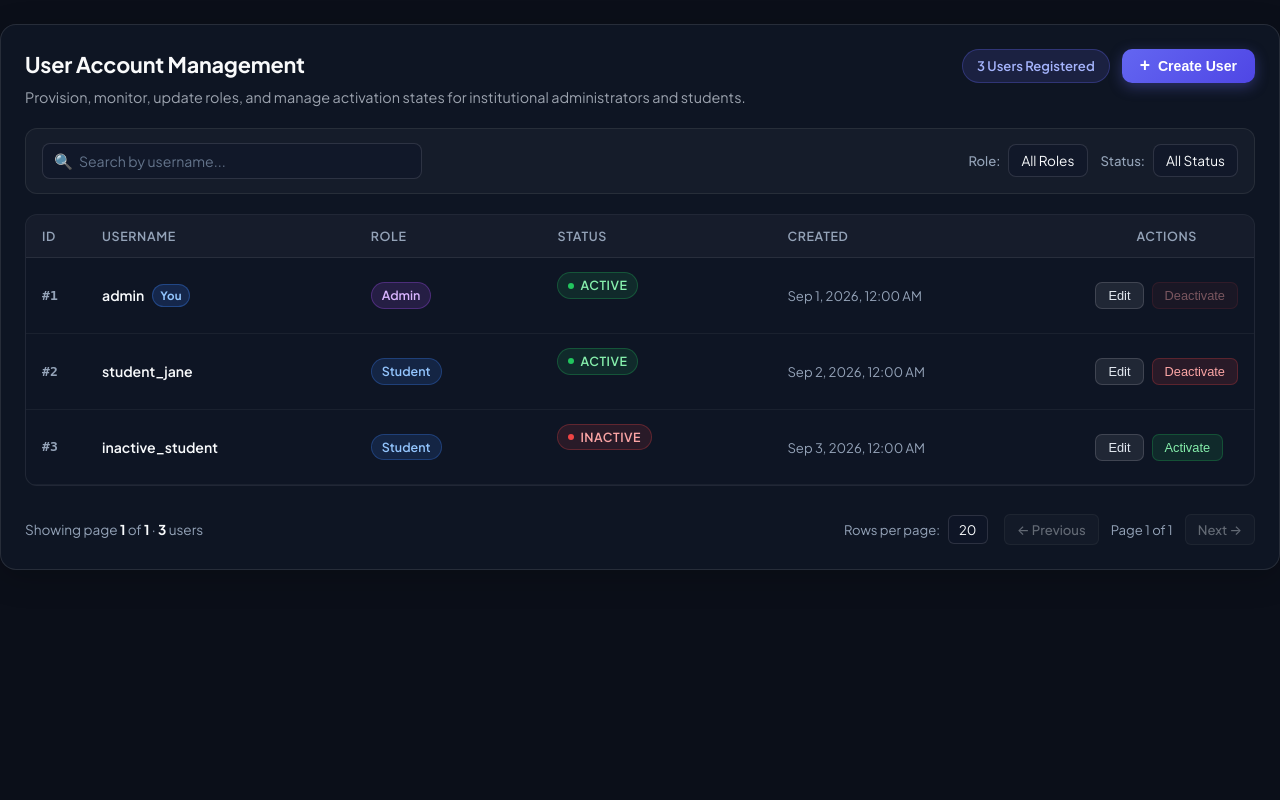
Test case: UserManagement Component › displays error banner inside Create User modal when username already exists (409 conflict)
Expected: the text "student_jane" is shown, x1=102 y1=361 x2=193 y2=382
Click the button with aria-label "create new user account" at (1188, 66), box x1=1122 y1=49 x2=1255 y2=83
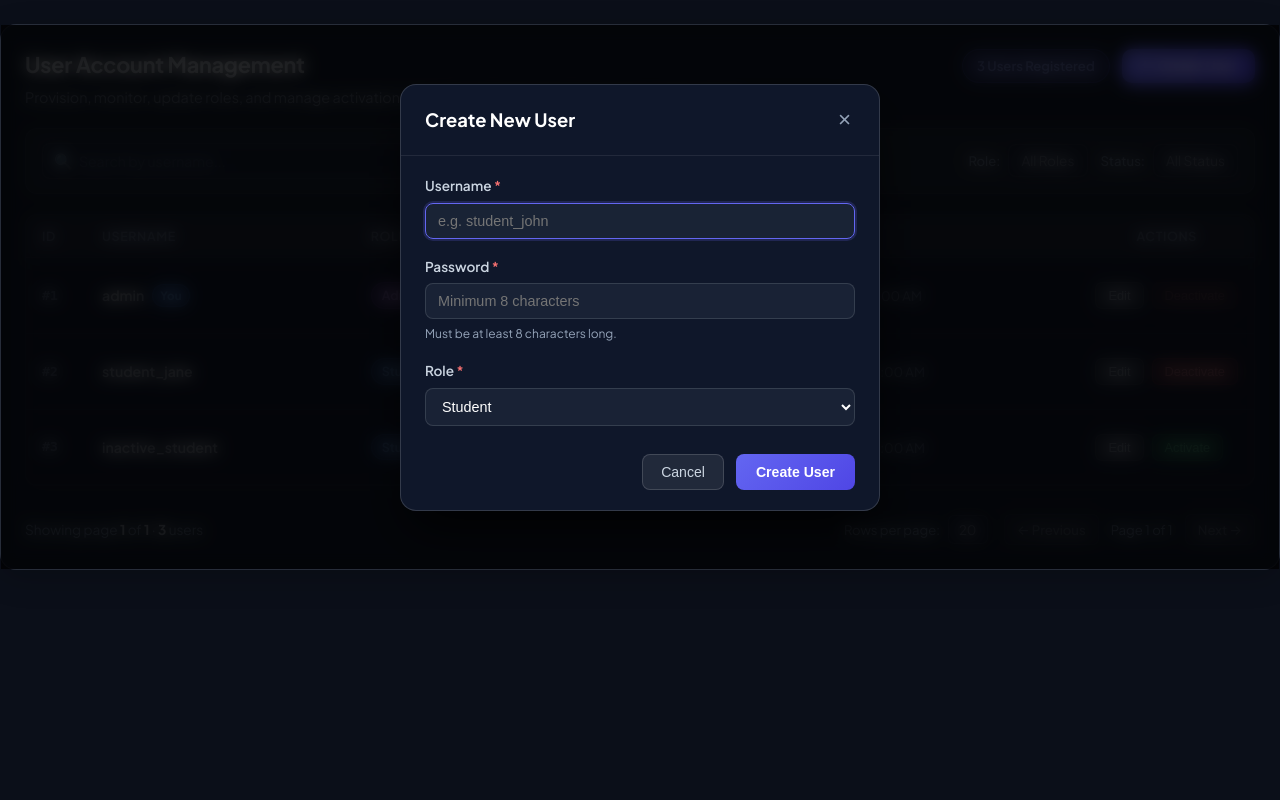
Type "admin" into the field with placeholder "e.g. student_john" at (640, 221), box x1=425 y1=203 x2=855 y2=239
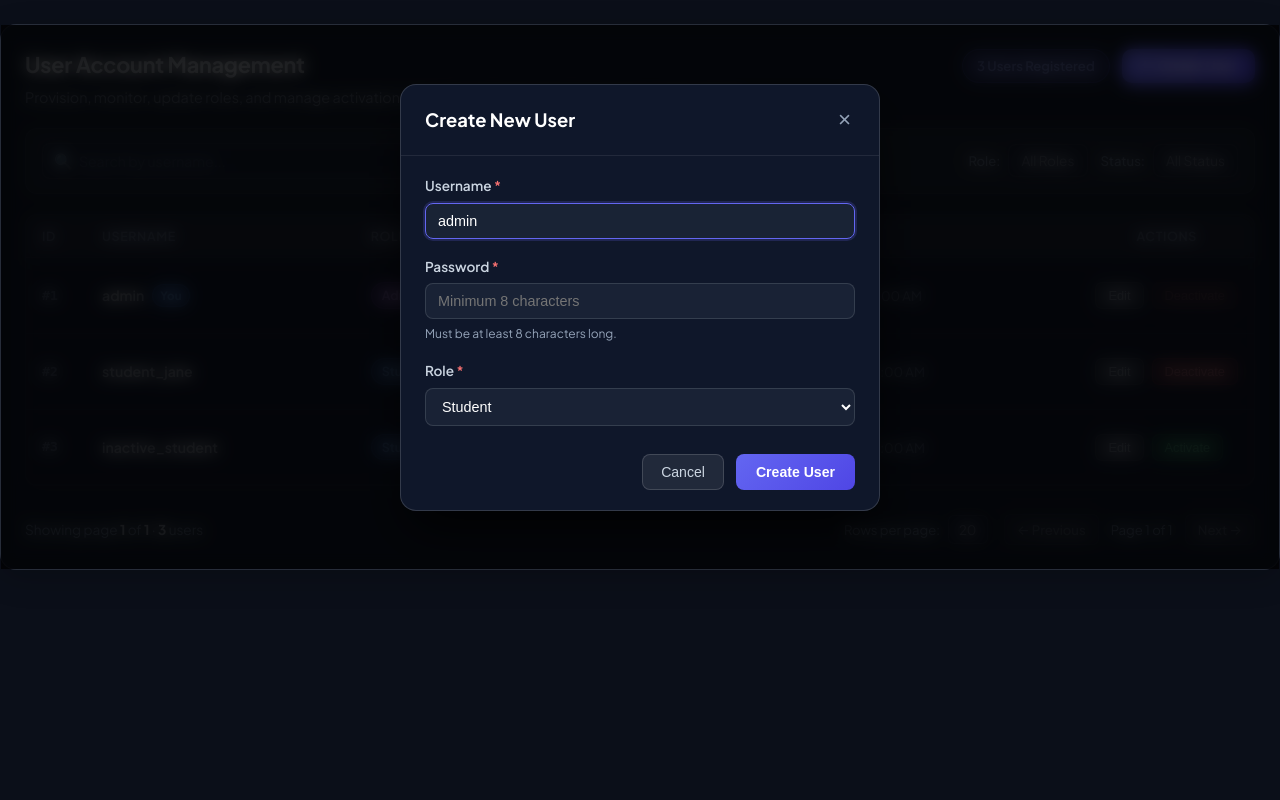
Type "ValidSecret123!" into the password field with placeholder "Minimum 8 characters" at (640, 301), box x1=425 y1=283 x2=855 y2=319
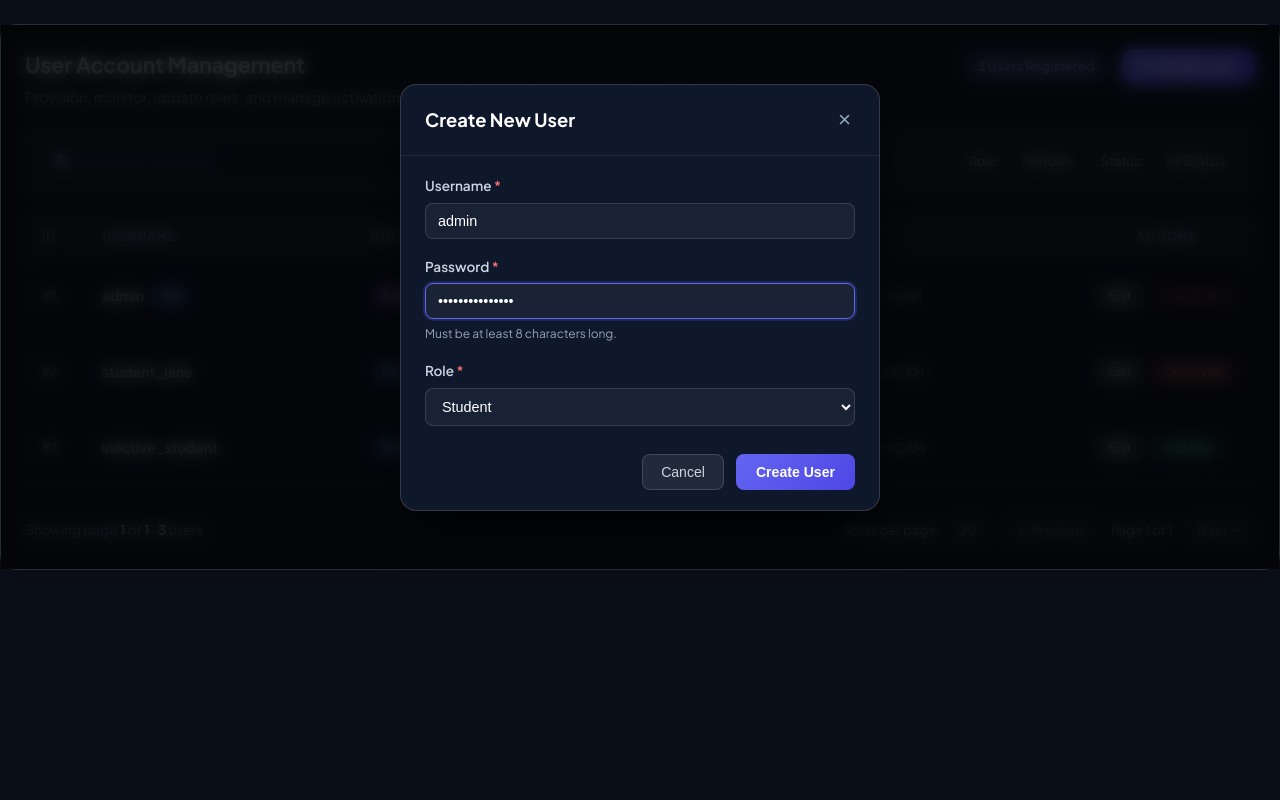
Click the button "Create User" at (796, 472), box x1=736 y1=454 x2=855 y2=490
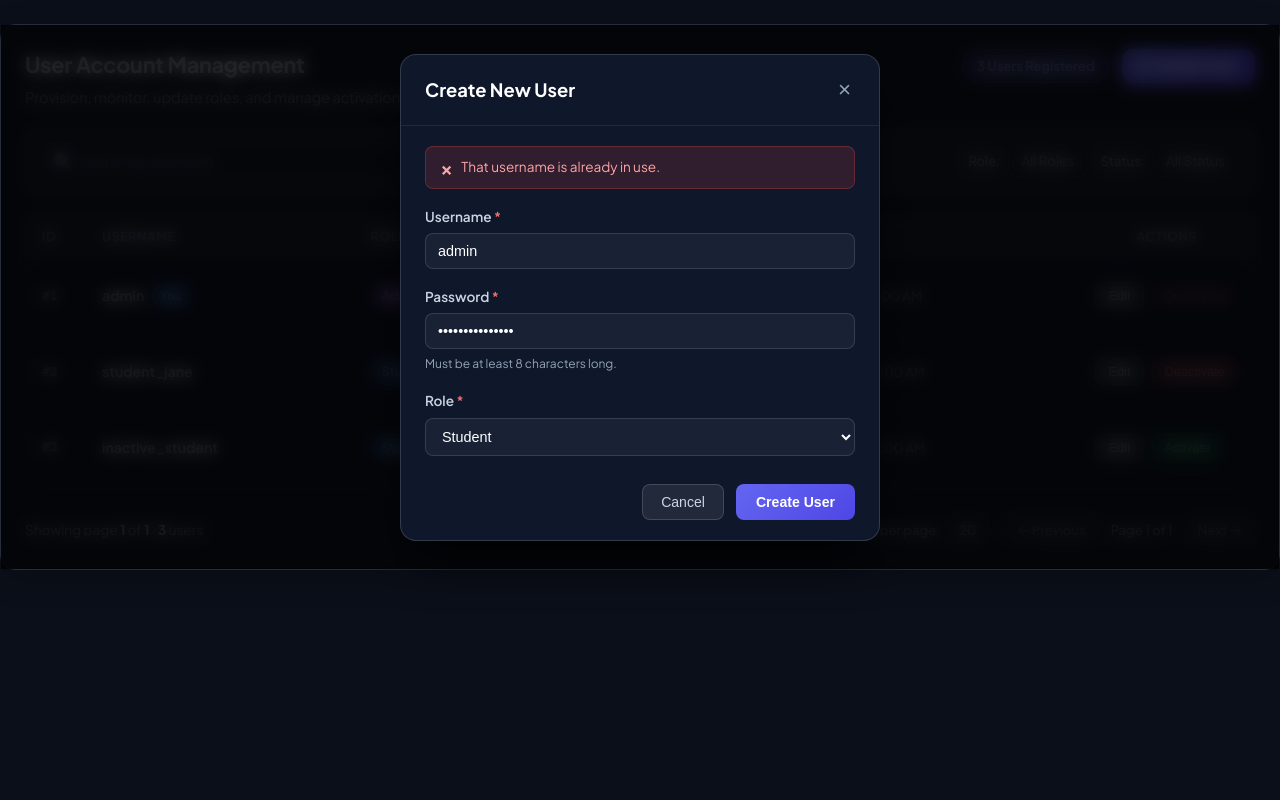
Expected: the dialog "Create New User" is shown, x1=400 y1=54 x2=880 y2=541
Expected: the text "That username is already in use." is shown, x1=461 y1=157 x2=660 y2=178
